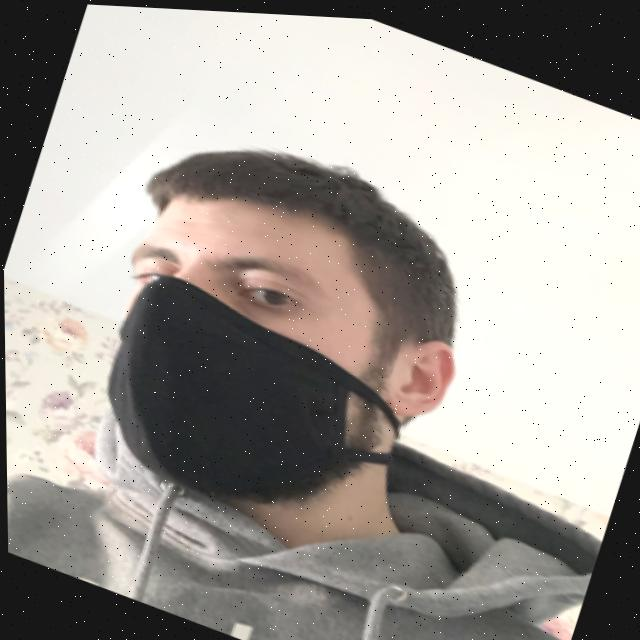Mask: (72, 241, 453, 561)
